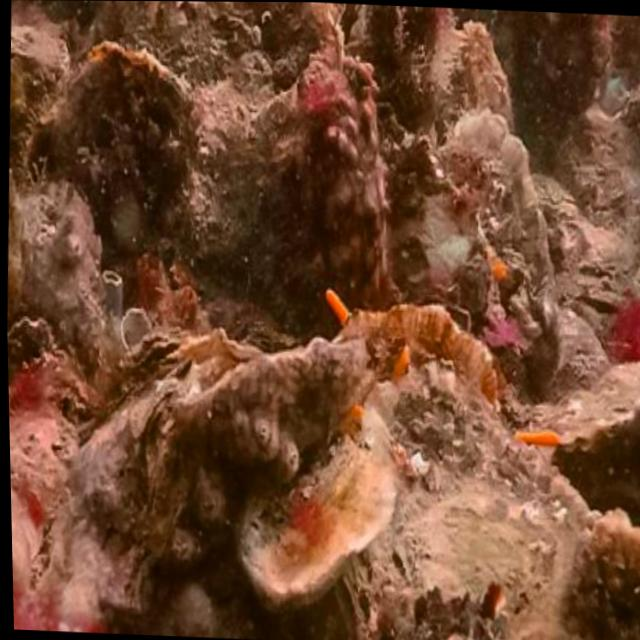Oyster-Closed: (341, 373, 640, 640)
Oyster-Indeterminate: (139, 342, 369, 569), (29, 44, 190, 304), (250, 68, 386, 322), (433, 113, 554, 371), (240, 417, 396, 605), (10, 183, 108, 376), (187, 69, 280, 253), (334, 307, 502, 408), (518, 359, 640, 463), (500, 302, 613, 411)
